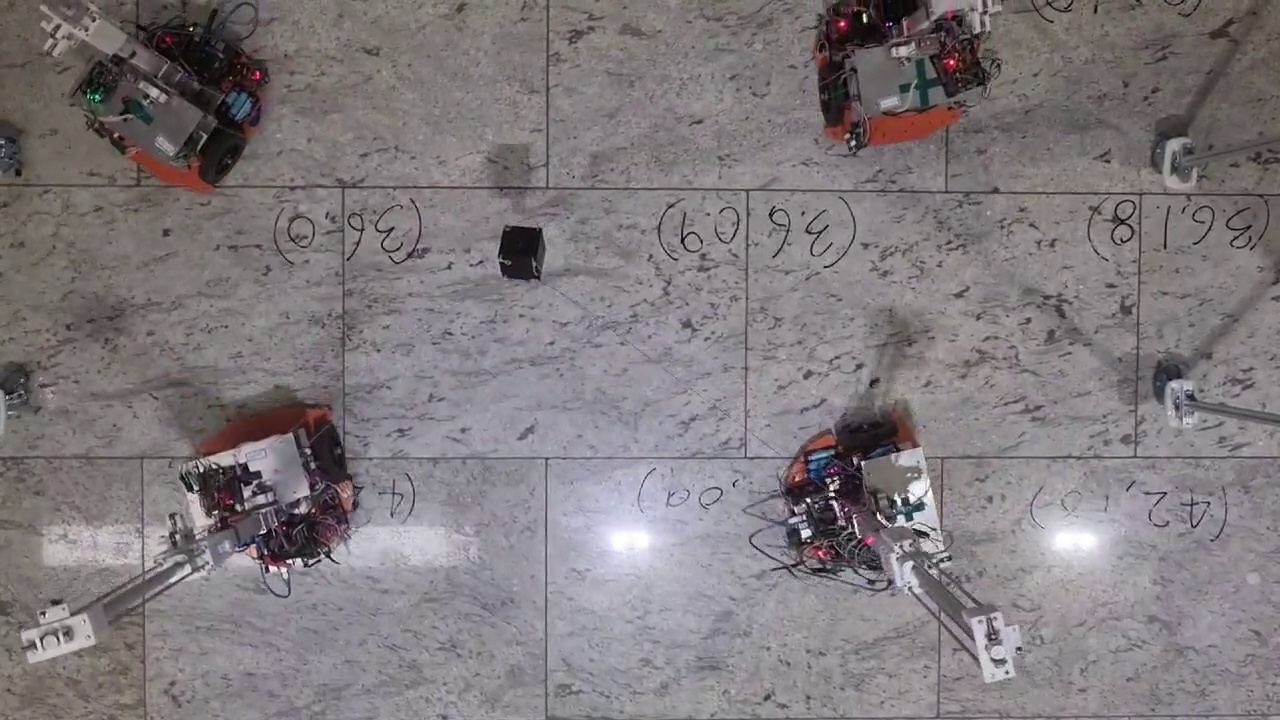e0: (498, 225, 546, 282)
r1: (837, 419, 935, 583)
r2: (818, 47, 976, 127)
r3: (76, 61, 249, 184)
r4: (180, 416, 347, 519)
y_+_axis_vector: (748, 190, 1140, 194)
y_-_axis_vector: (343, 188, 748, 190)
